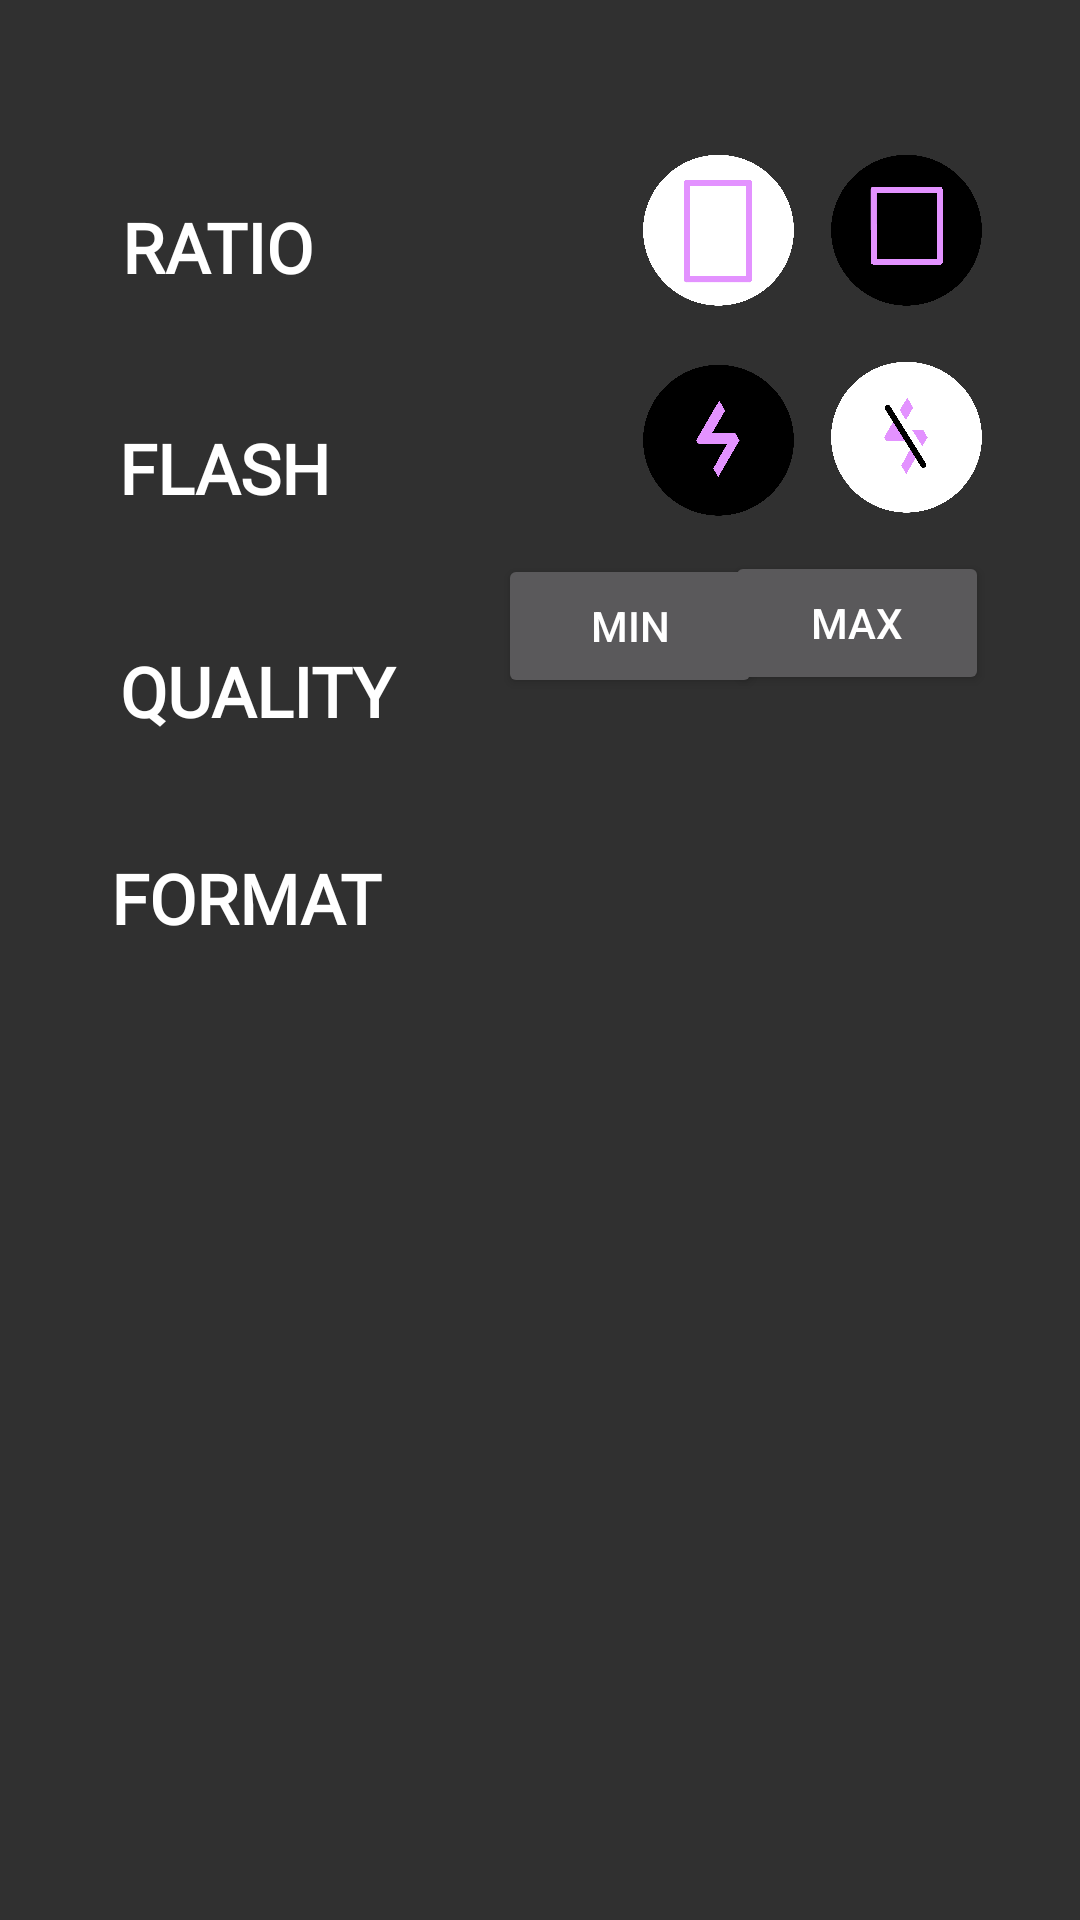

Icons on this 1080 x 1920 Android screen, each with the point to tap as point (x, y):
flash off on: point (906, 437)
flash on off: point (718, 440)
